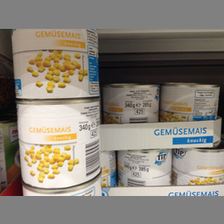corn: (15, 99, 102, 189), (11, 29, 100, 97), (103, 82, 161, 124), (161, 83, 221, 121), (116, 151, 172, 186), (172, 149, 224, 186)
